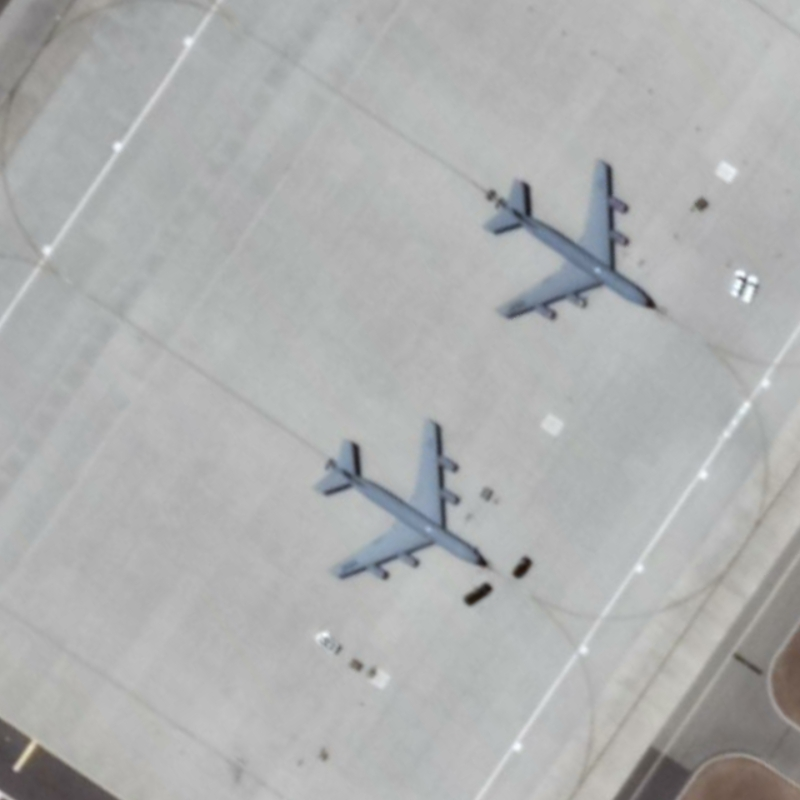A14: (310, 413, 505, 583), (475, 155, 667, 322)
